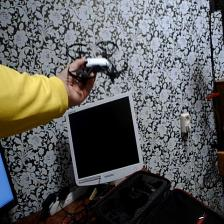drone: (60, 33, 128, 88)
